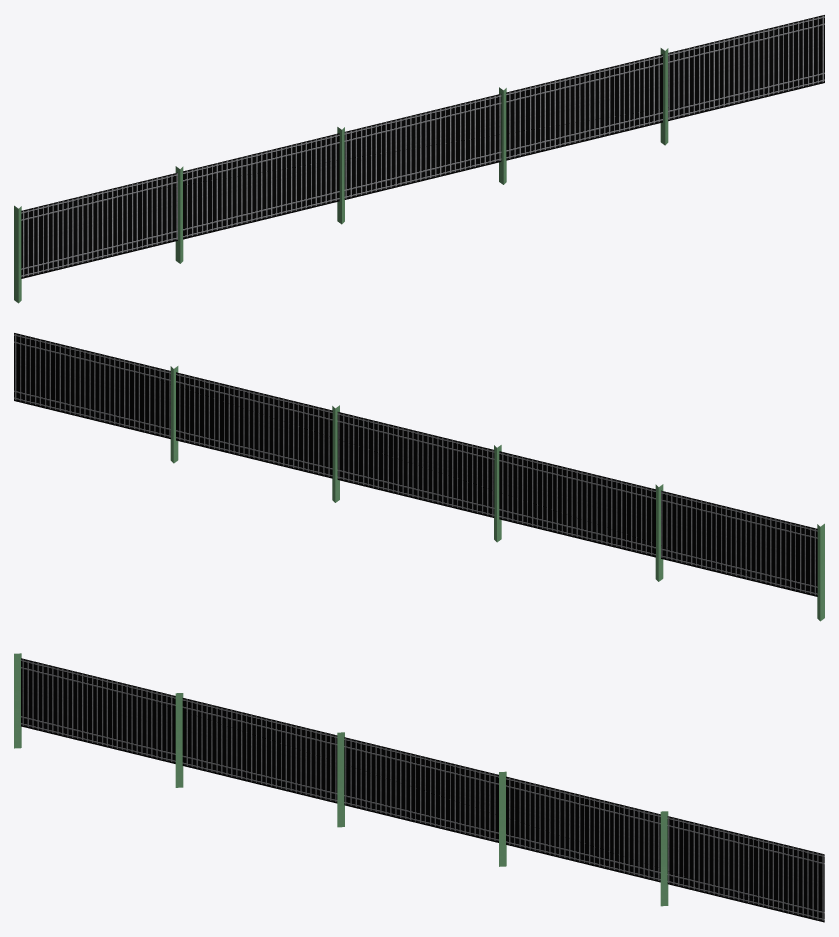
The model's file is fence-mesh-5s-cbj_LOD01.gltf.
3 views of the same model, one above another, from view 1: azimuth 30°, elevation 25°; view 2: azimuth 150°, elevation 25°; view 3: azimuth 330°, elevation 25° (orthographic).
Parts seen in each view (by area): view 1: post01; view 2: post01; view 3: post01.
Boxes of the visible parts, x1,y1,x2,y2 form: post01: [14, 15, 824, 303]; post01: [14, 333, 824, 621]; post01: [14, 653, 824, 922].
Size of the model in its own units: 12.5 by 1.4 by 0.1238.
